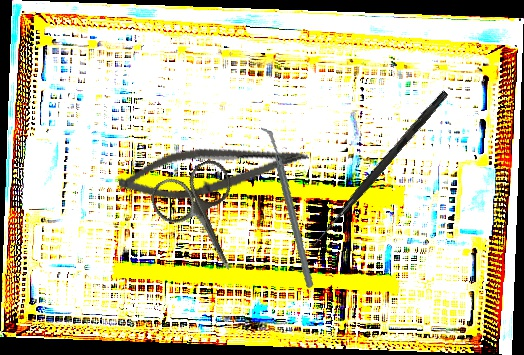Chopper: (236, 124, 338, 289)
Hook Surgical: (311, 88, 449, 250)
Iris Scissors: (145, 154, 265, 288)
Micro Scissor: (114, 124, 313, 214)
